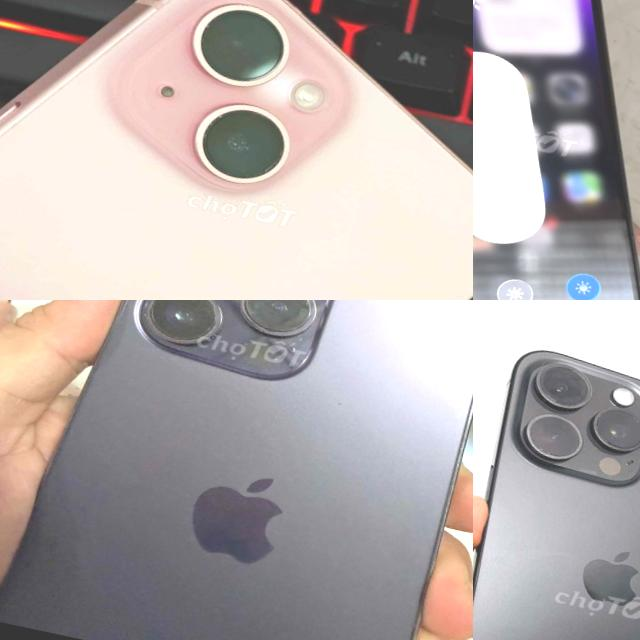gen_14: (0, 300, 473, 640), (473, 0, 640, 300)
gen_15: (0, 0, 473, 300), (473, 329, 640, 640)
scratch: (196, 109, 224, 139), (261, 144, 285, 176), (230, 0, 267, 11)
